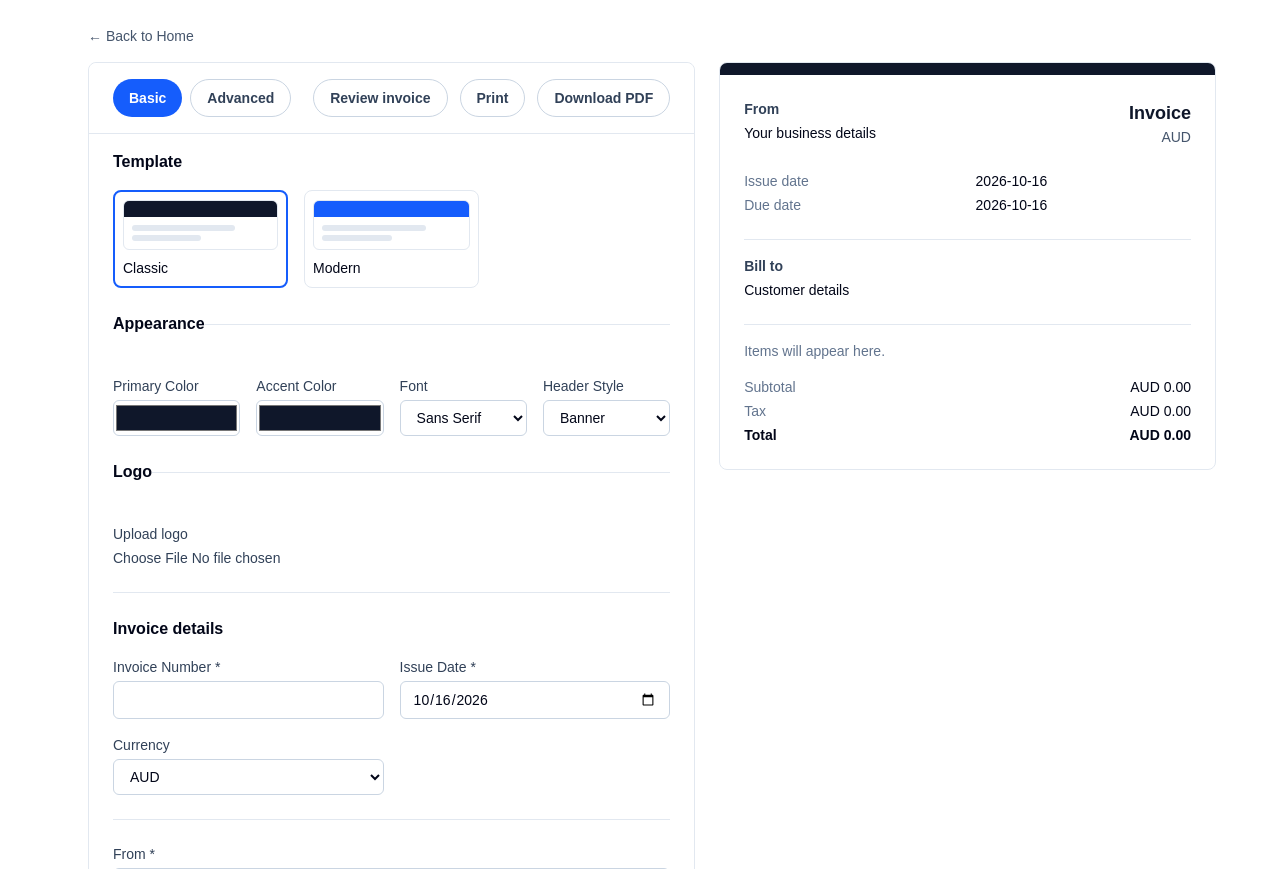
CreateInvoiceEditor › only shows the specific payment instruction fields that were actually filled in
The width and height of the screenshot is (1280, 869).
Click the button "Advanced" at point(241, 98), box [190, 79, 291, 117]
(page scrolled)
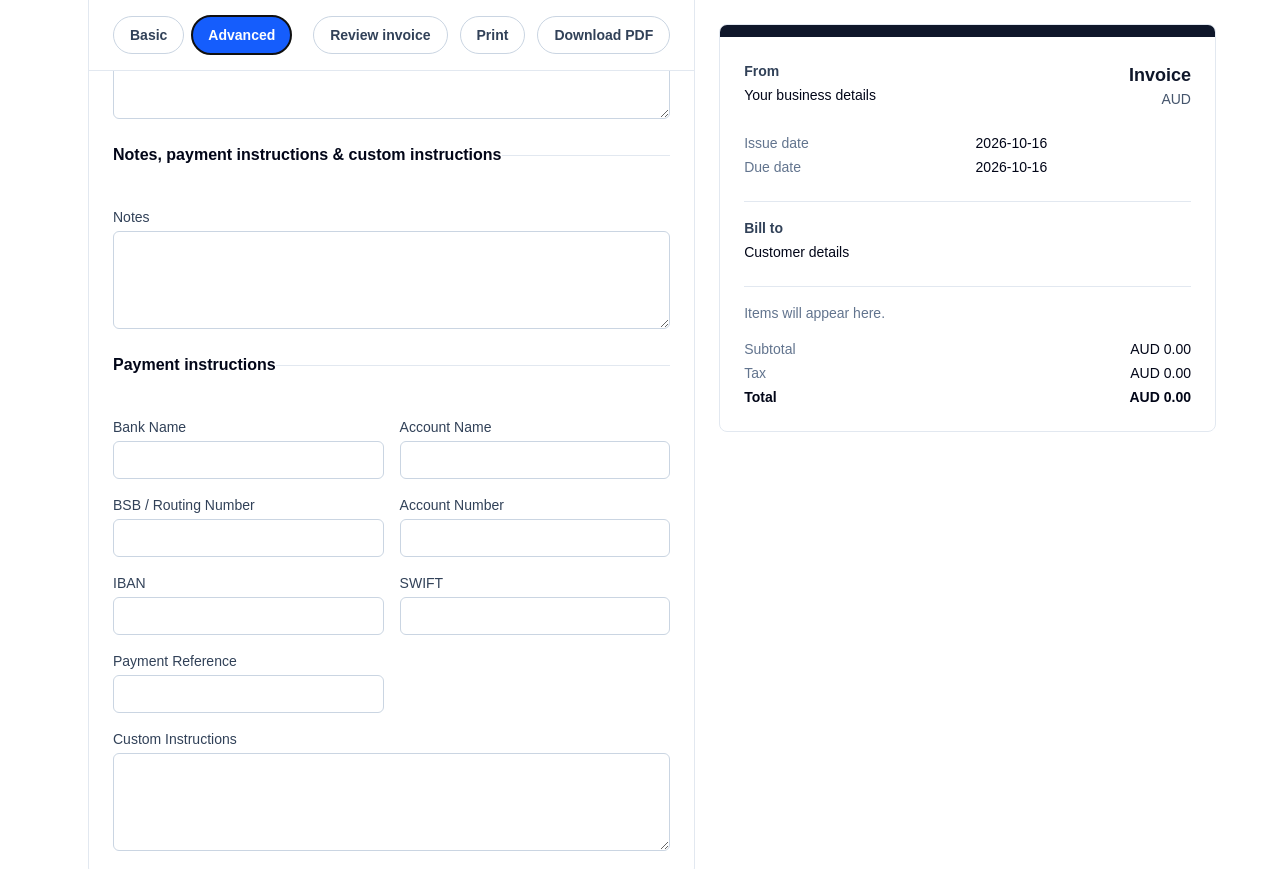
Click the field labelled "Bank Name" at point(248, 460), box [113, 441, 384, 479]
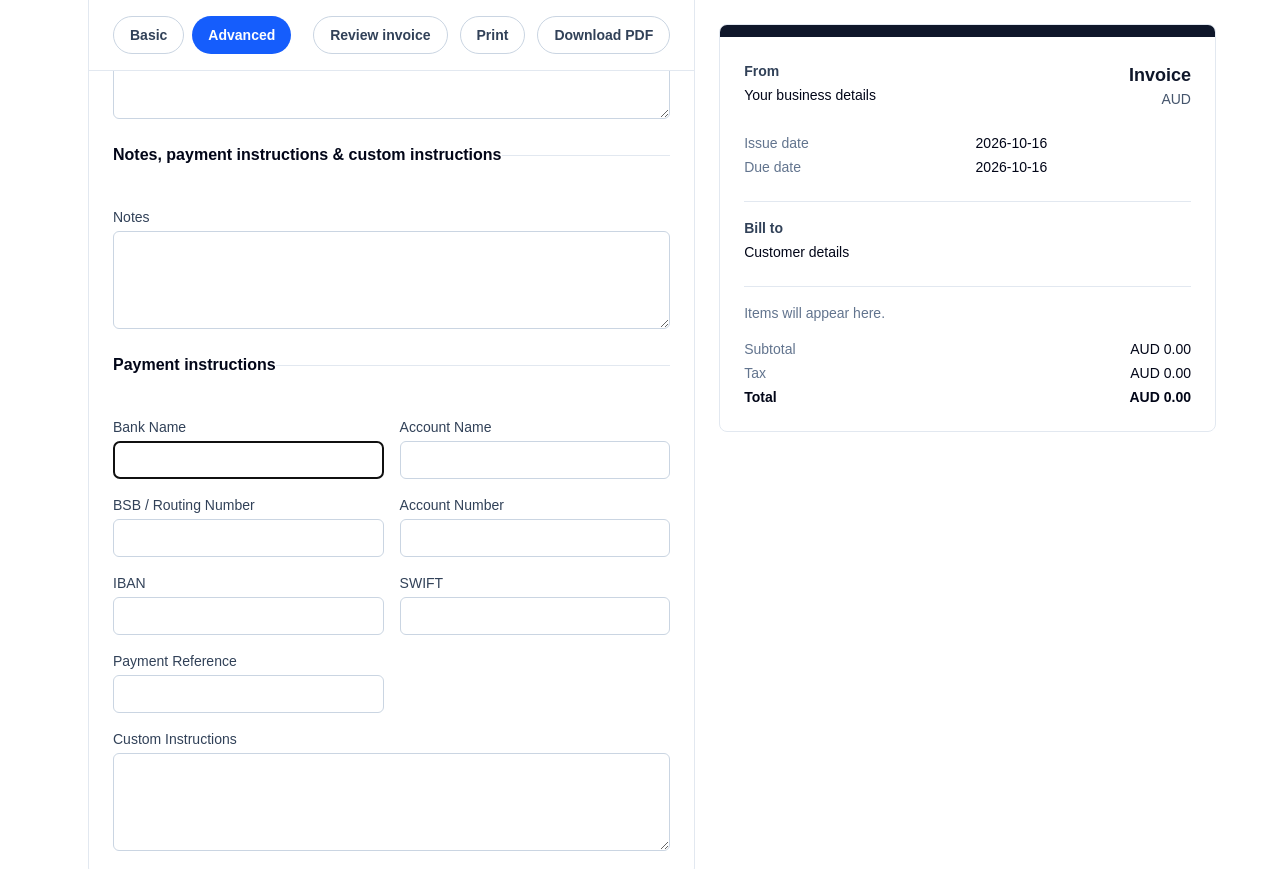
Type keys "Big Bank"
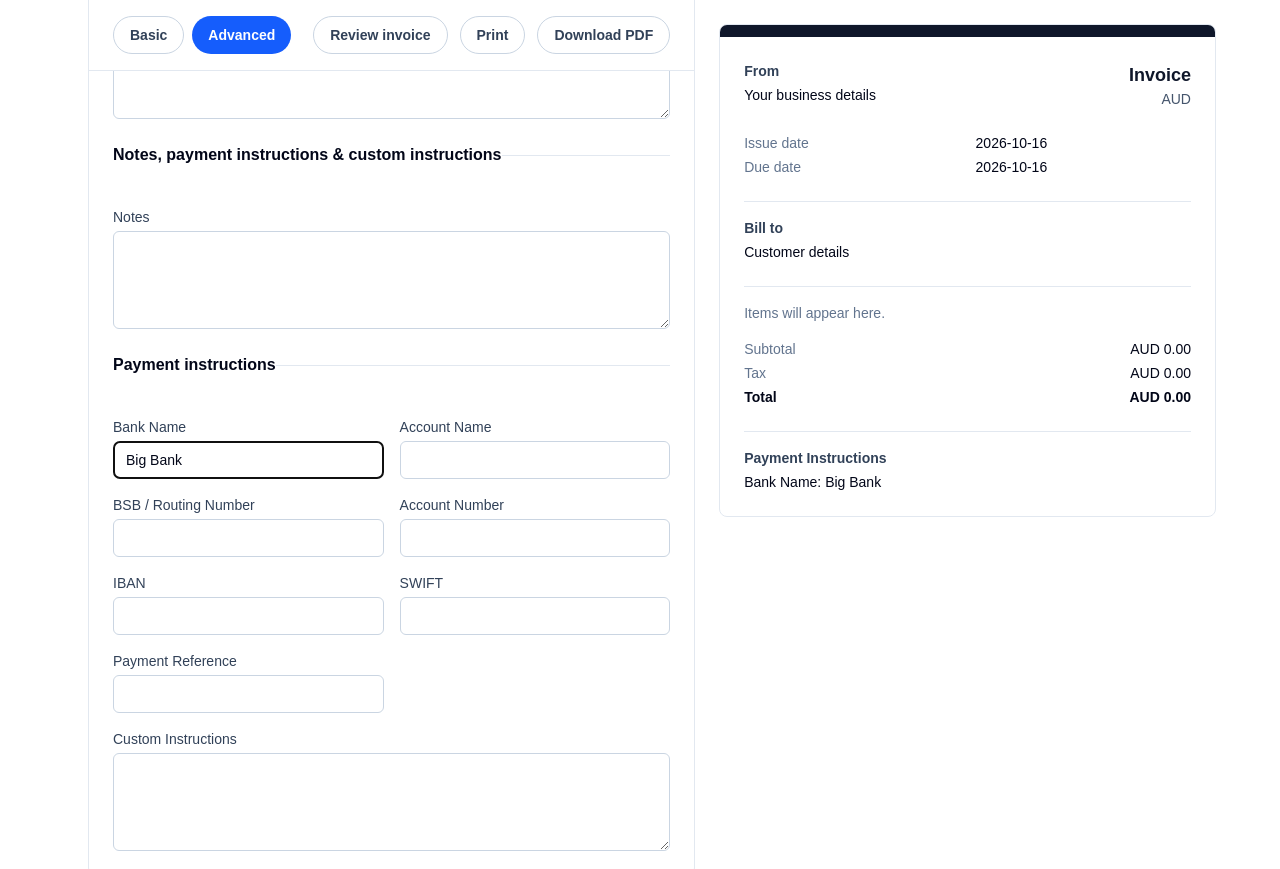
Now the text "Bank Name: Big Bank" is shown, box [744, 474, 881, 490]
